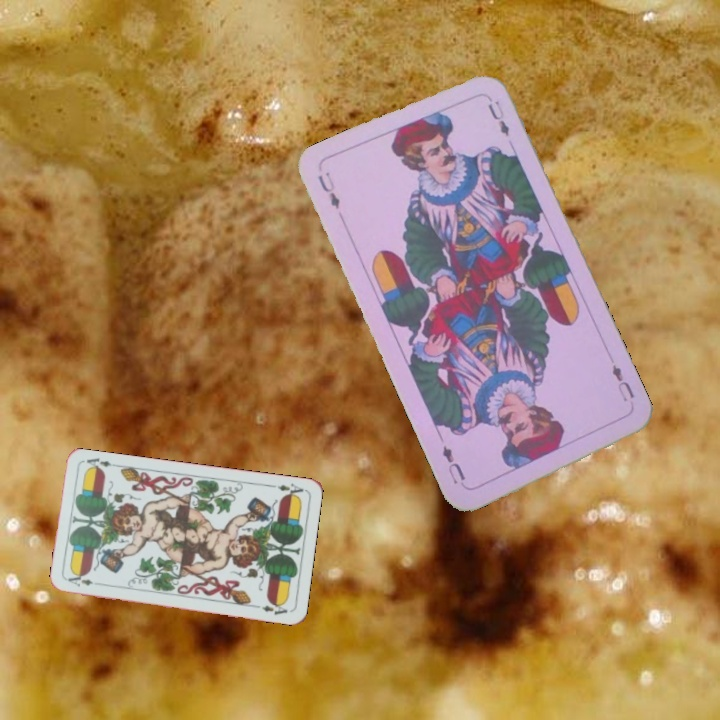EA: (266, 479, 306, 500), (64, 573, 104, 589)
EU: (607, 360, 637, 404), (314, 168, 343, 212)
